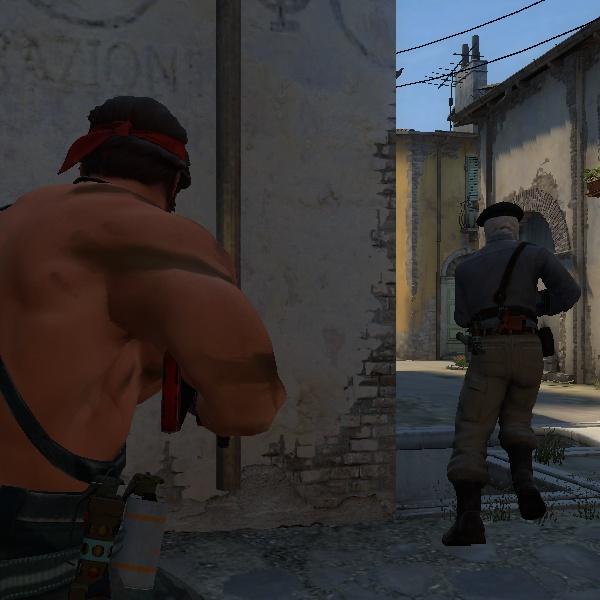t_body: (0, 77, 318, 573)
t_head: (56, 85, 211, 223)
